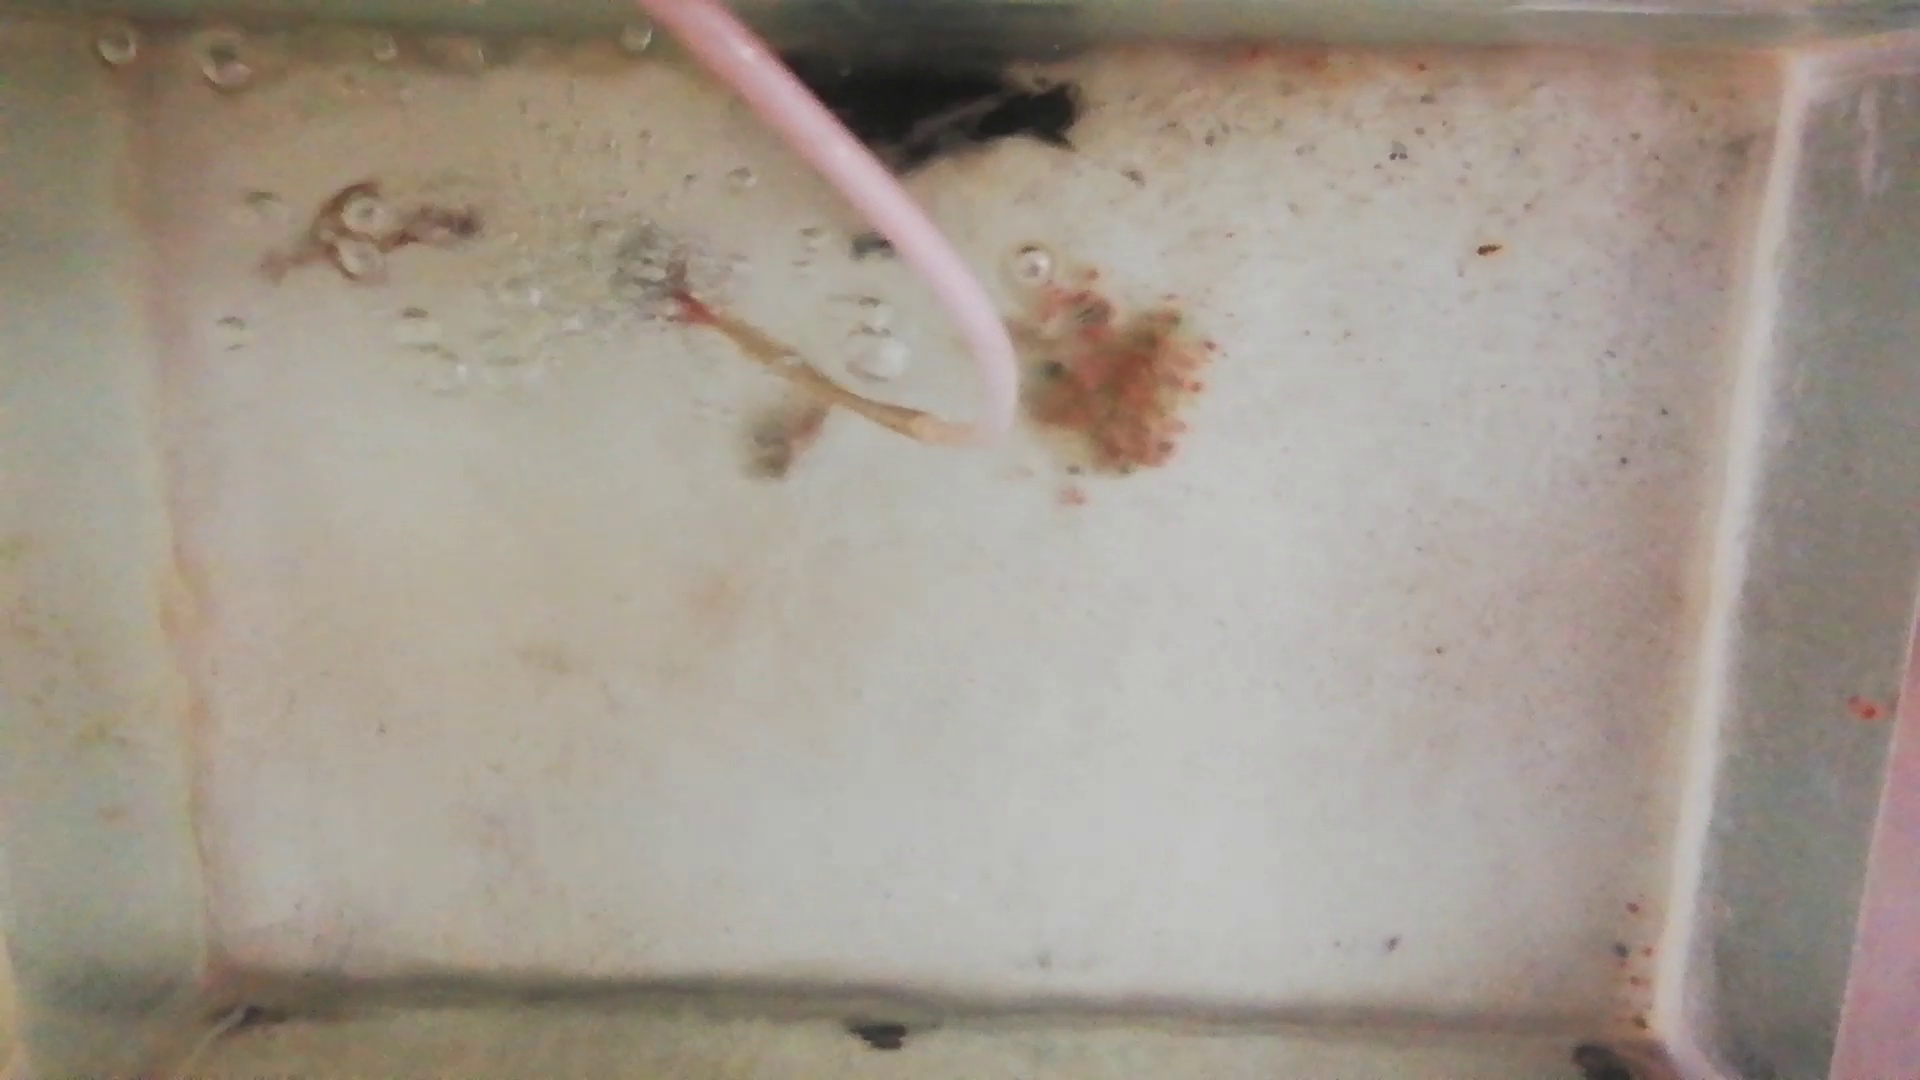fish: (258, 185, 485, 286), (742, 388, 837, 483)
